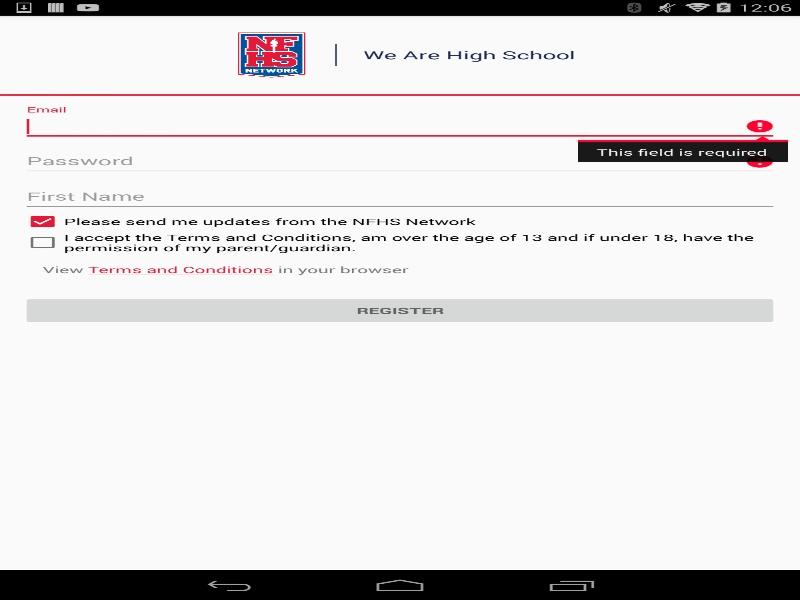Button: (21, 295, 778, 325)
Input: (21, 147, 778, 176), (21, 112, 778, 140), (21, 183, 778, 211)
